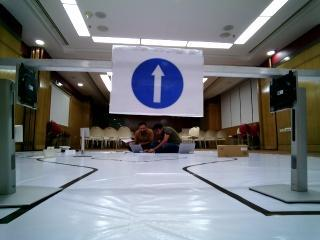straight: (113, 45, 200, 115)
